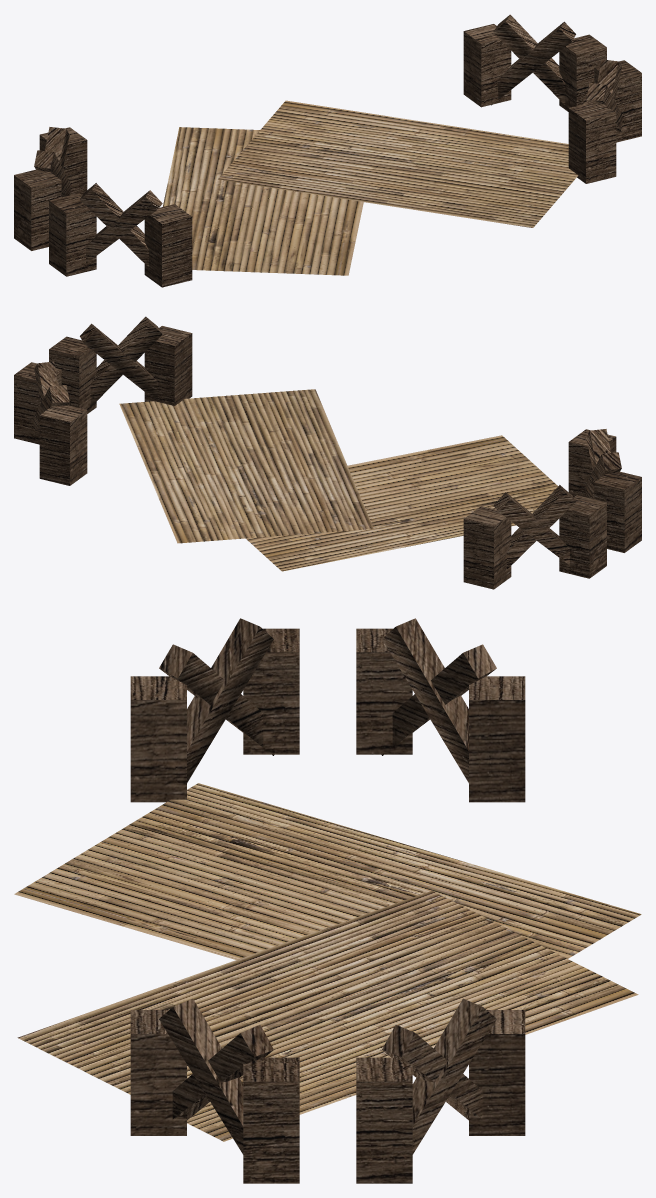
File: build_d2.FBX
3 renders of one model, top to bottom at view 1: azimuth 30°, elevation 25°; view 2: azimuth 150°, elevation 25°; view 3: azimuth 270°, elevation 25°, orthographic. The views are drawn at different scales.
Parts seen in each view (by area): view 1: build_d2; view 2: build_d2; view 3: build_d2.
Part boxes in pixels (bbox=[...]): build_d2: bbox=[14, 14, 641, 287]; build_d2: bbox=[14, 316, 641, 589]; build_d2: bbox=[14, 618, 641, 1183].
Bounding box in the file's own units: 190 × 26.92 × 111.
